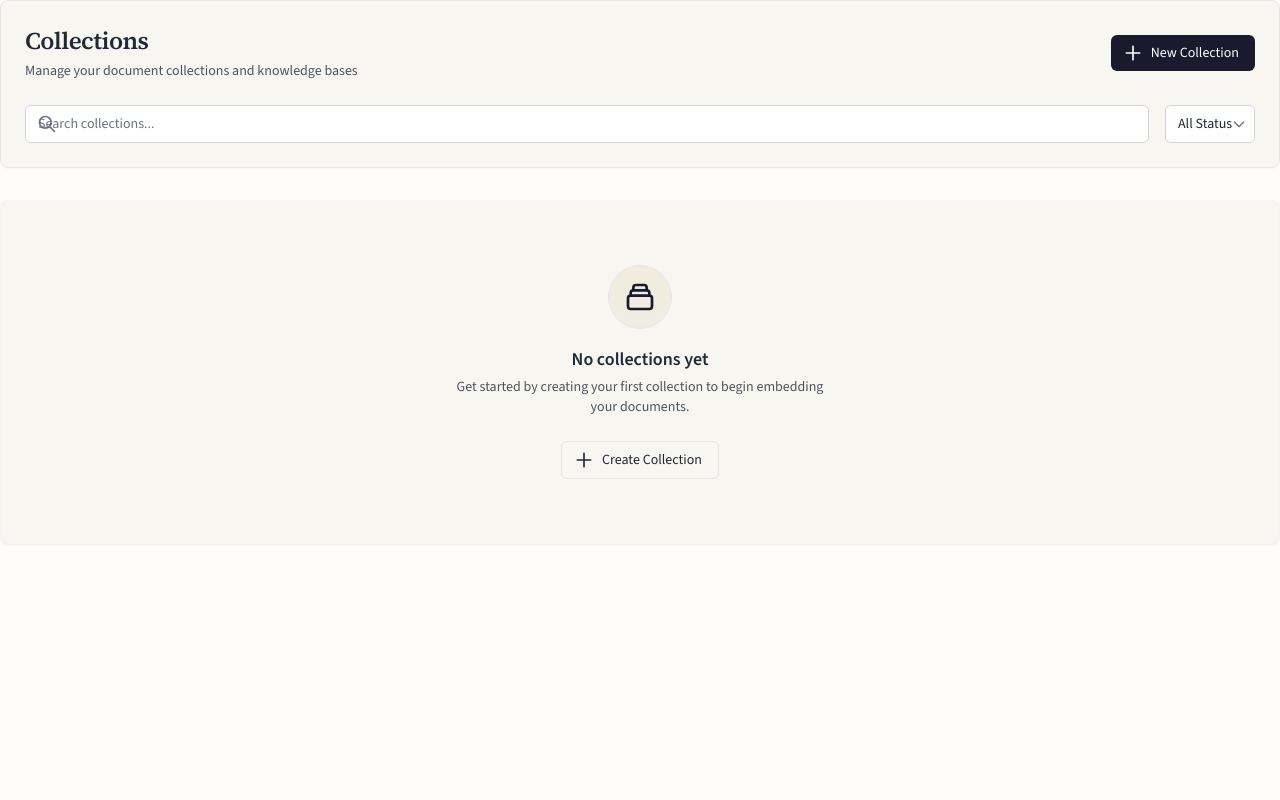
Test: Final Wizard Integration › Dashboard Wizard Integration › opens wizard when clicking New Collection button
Click the button "New Collection" at (1183,53), box [1111,35,1255,71]
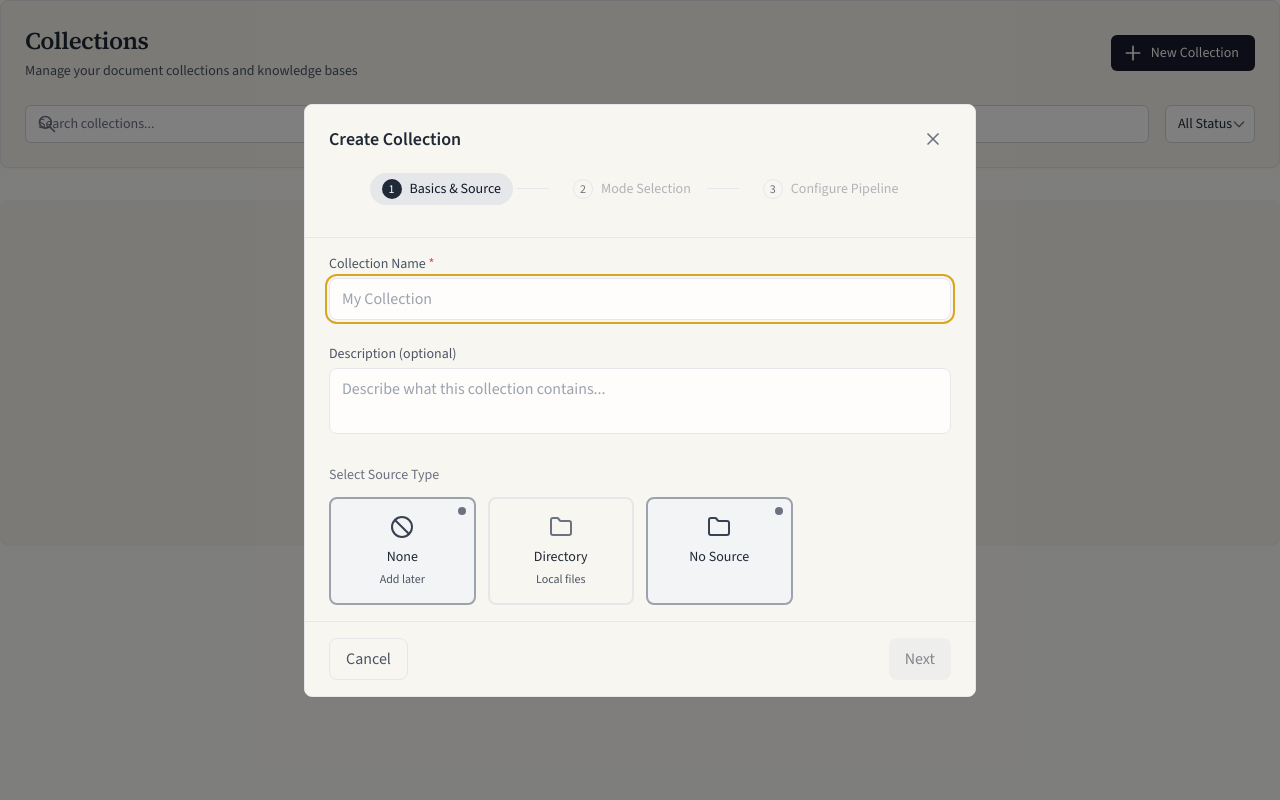
Expected: the dialog is shown, [304,104,976,696]
Expected: the text "Basics & Source" is shown, [410,178,501,198]
